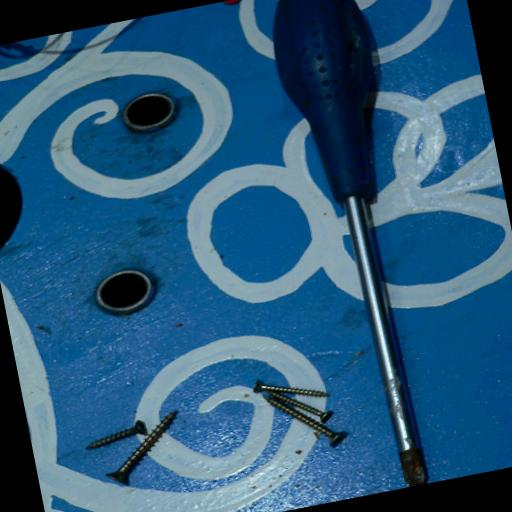screwdriver: (263, 0, 455, 496)
